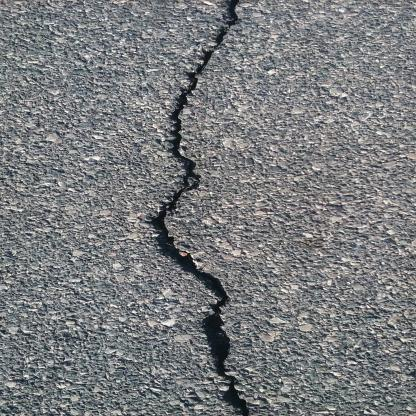Cracks: (142, 0, 267, 415)
